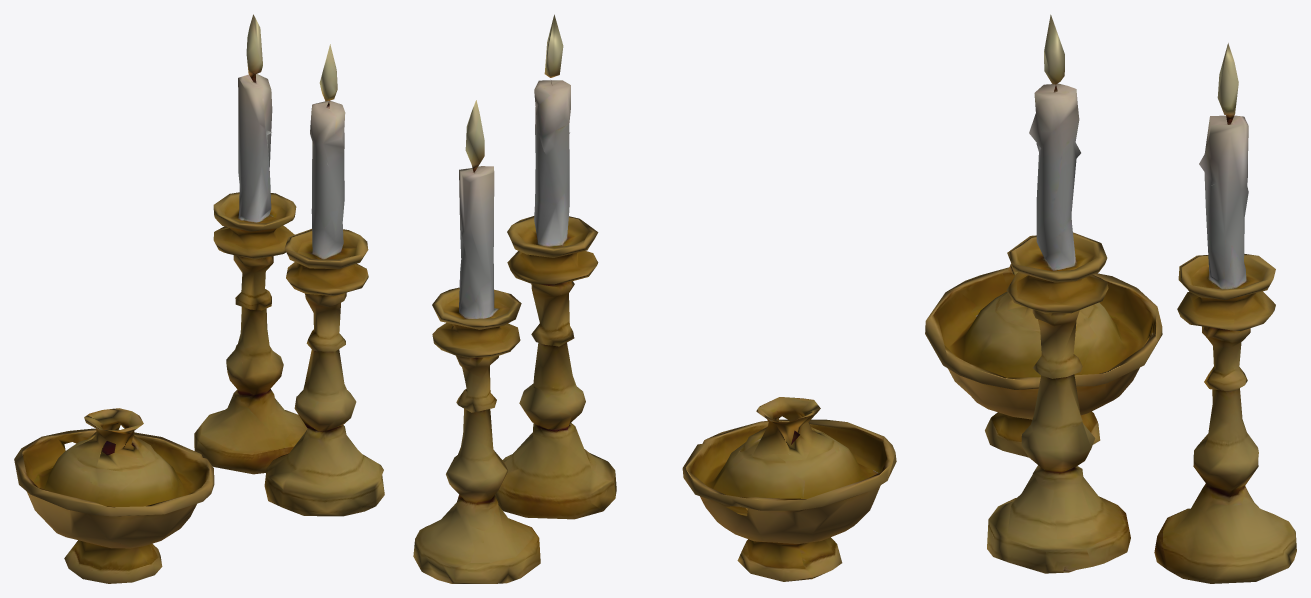
File: candles.glb
3 renders of one model, left to right at view 1: azimuth 30°, elevation 25°; view 2: azimuth 150°, elevation 25°; view 3: azimuth 270°, elevation 25°, orthographic. The views are drawn at different scales.
Visible parts, largest first — view 1: tripo_node_ee904c46-0c0d-49bc-9727-5eb797956a5d; view 2: tripo_node_ee904c46-0c0d-49bc-9727-5eb797956a5d; view 3: tripo_node_ee904c46-0c0d-49bc-9727-5eb797956a5d.
Part boxes in pixels (<box>): tripo_node_ee904c46-0c0d-49bc-9727-5eb797956a5d: <box>14,14,384,583</box>; tripo_node_ee904c46-0c0d-49bc-9727-5eb797956a5d: <box>413,14,896,583</box>; tripo_node_ee904c46-0c0d-49bc-9727-5eb797956a5d: <box>925,14,1296,583</box>.
Size of the model in its own units: 0.2823 by 0.35 by 0.2155.
Materials: 1 (1 with a texture image).
